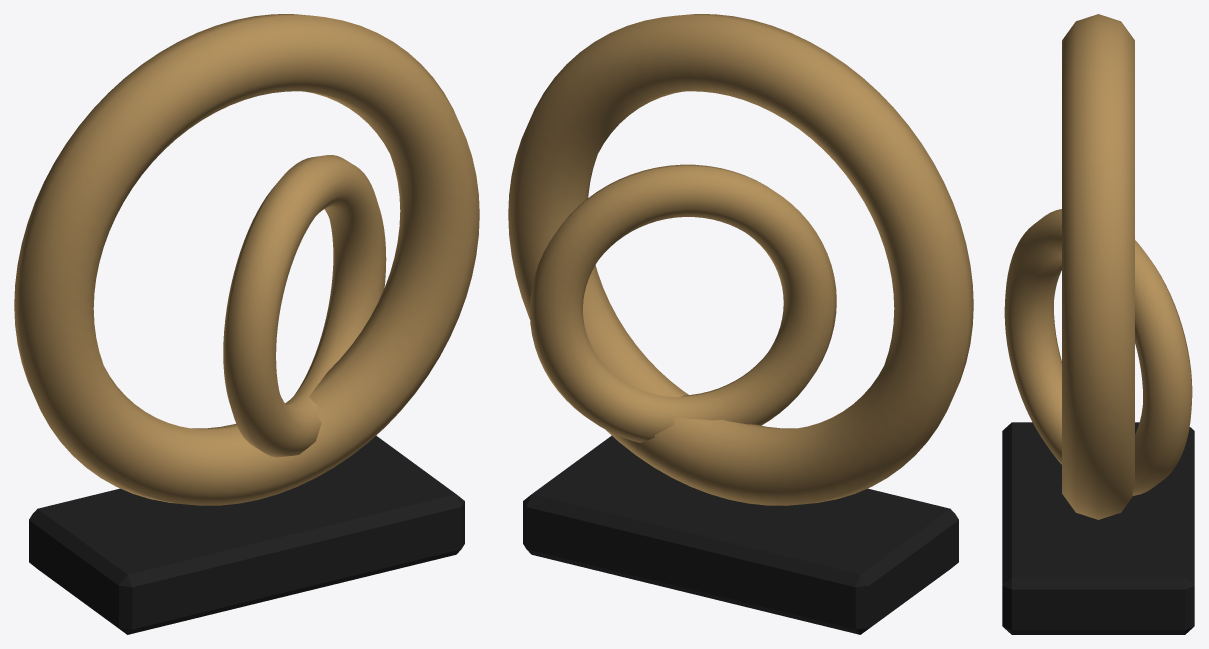
File: i_figure_0.glb
3 views of the same model, side by side, from view 1: azimuth 30°, elevation 25°; view 2: azimuth 150°, elevation 25°; view 3: azimuth 270°, elevation 25° (orthographic). The views are drawn at different scales.
Visible parts, largest first — view 1: o.001, o, o.002; view 2: o.001, o, o.002; view 3: o.001, o, o.002.
Part boxes in pixels (bbox=[...]): o.001: bbox=[14, 14, 479, 505]; o: bbox=[29, 435, 464, 634]; o.002: bbox=[223, 155, 386, 457]; o.001: bbox=[508, 14, 973, 505]; o: bbox=[523, 435, 958, 634]; o.002: bbox=[529, 164, 836, 442]; o.001: bbox=[1062, 14, 1134, 519]; o: bbox=[1002, 422, 1194, 634]; o.002: bbox=[1004, 209, 1192, 495].
Bounding box in the file's own units: 0.1577 × 0.1789 × 0.06.
